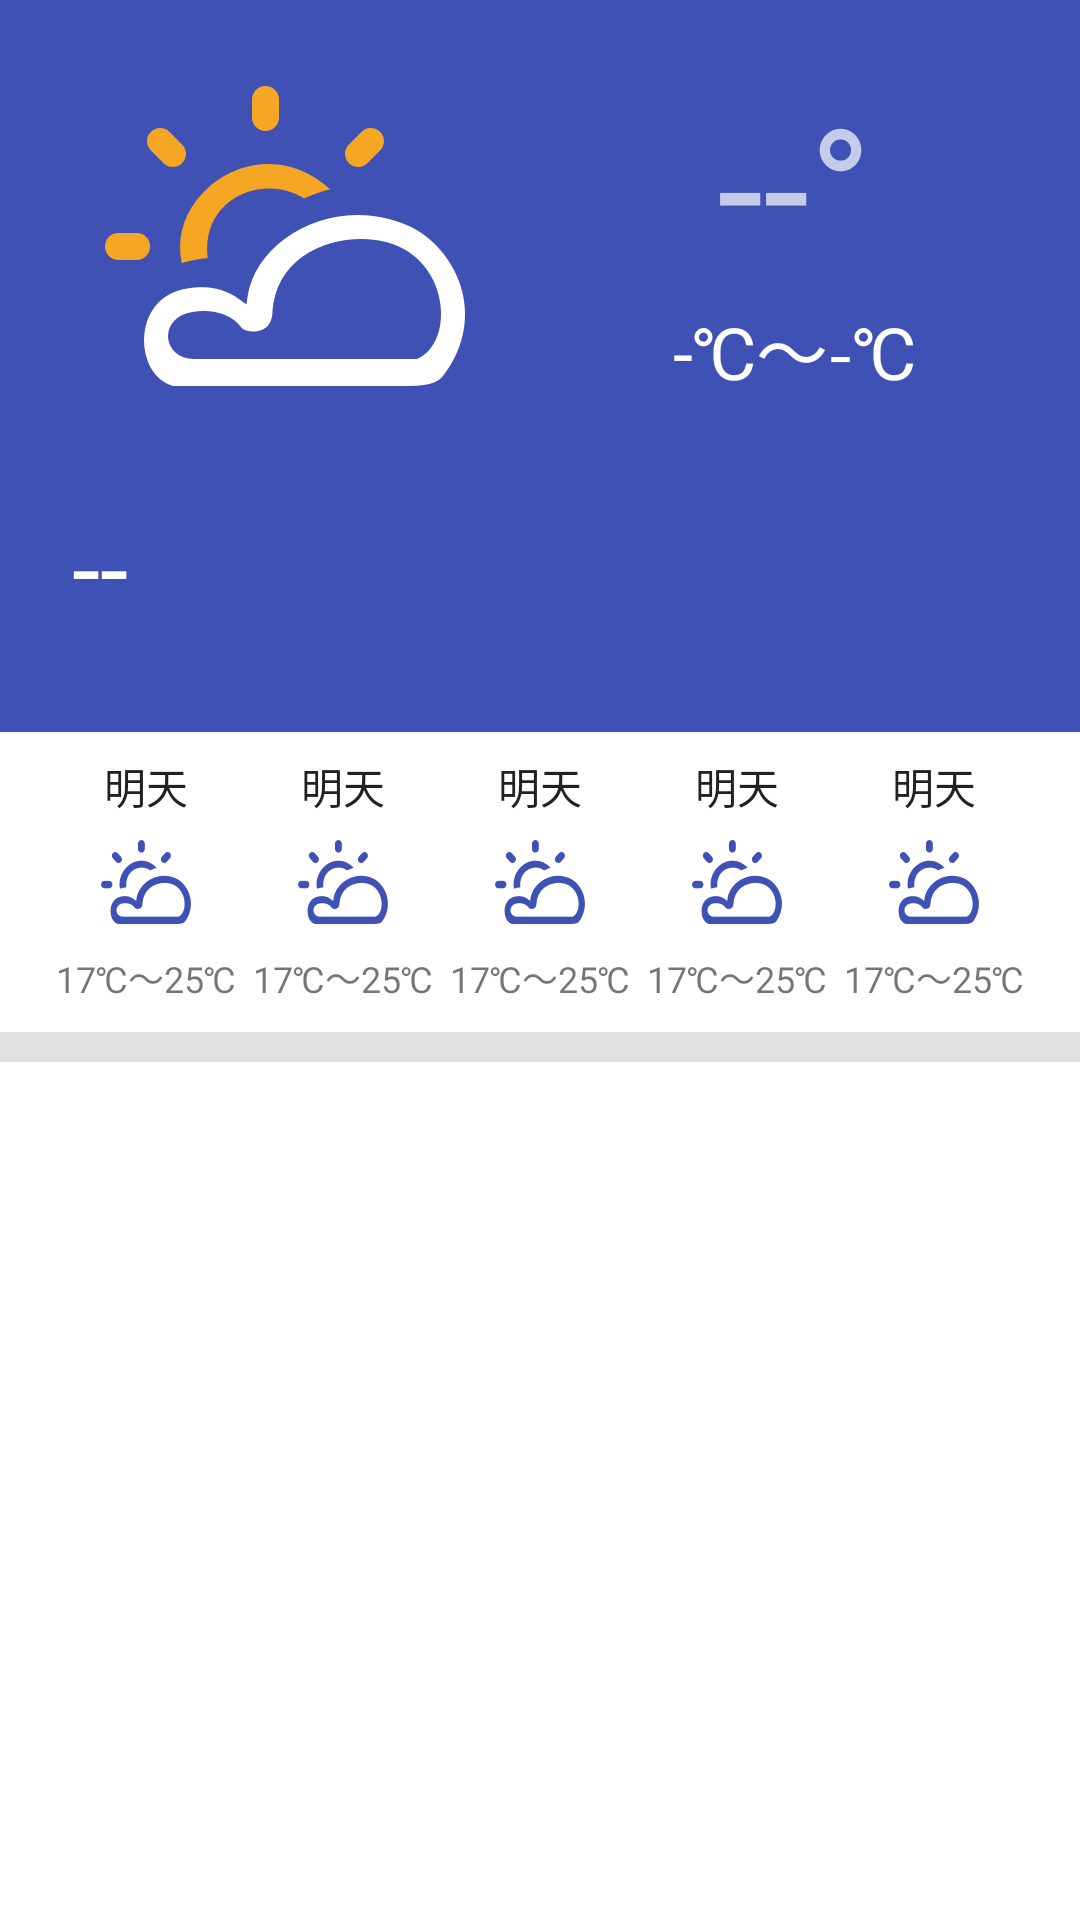

Icon bounding boxes for this 1080 × 1920 phone screenshot, format (x1, y1, x2, y2):
sunny cloudy: (105, 86, 465, 386), (101, 840, 191, 924), (298, 840, 388, 924), (495, 840, 585, 924), (692, 840, 782, 924), (889, 840, 979, 924)
